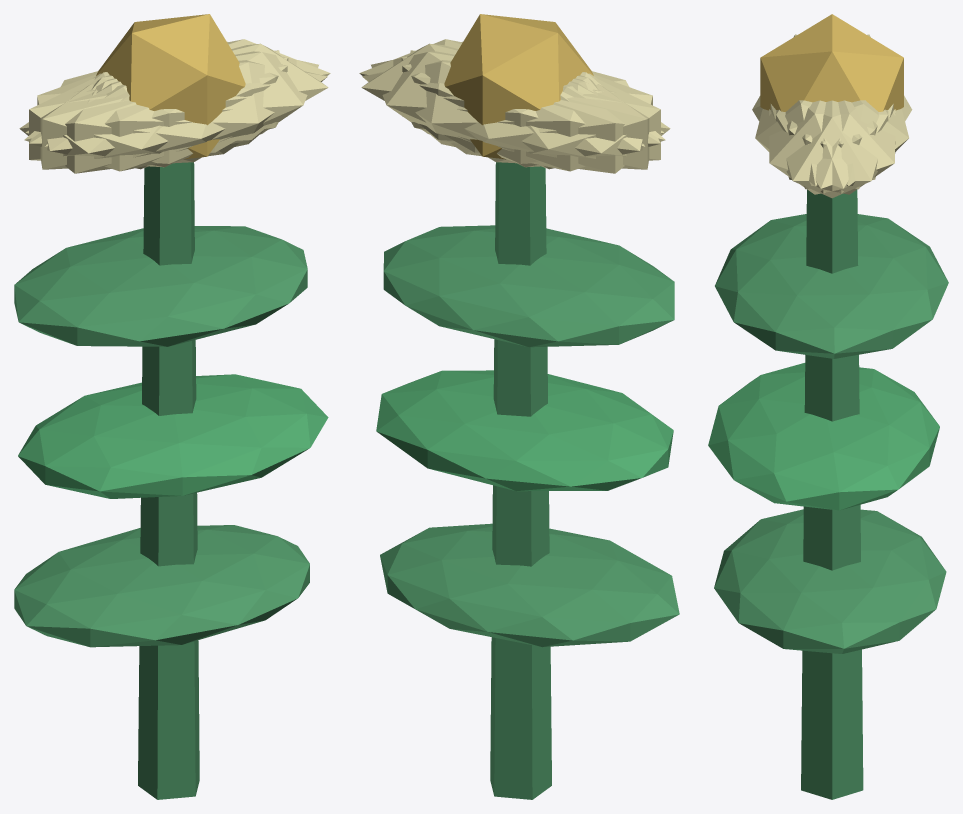
Rendered from lagerstroemia-speciosa.glb.
3 views of the same model, side by side, from view 1: azimuth 30°, elevation 25°; view 2: azimuth 150°, elevation 25°; view 3: azimuth 270°, elevation 25° (orthographic).
Visible parts, largest first — view 1: leaf1, leaf2, leaf0, stem, center, petal1, petal6, petal2, petal5, petal7, petal0, petal4 (+2 smaller); view 2: leaf2, leaf0, leaf1, stem, center, petal8, petal3, petal7, petal4, petal2, petal0, petal5 (+2 smaller); view 3: leaf2, leaf1, leaf0, stem, center, petal0, petal4, petal5, petal1, petal8.
Boxes of the visible parts, bbox=[...] form: leaf1: bbox=[18, 374, 328, 498]; leaf2: bbox=[14, 226, 307, 346]; leaf0: bbox=[14, 525, 309, 647]; stem: bbox=[138, 162, 199, 799]; center: bbox=[96, 14, 245, 159]; petal1: bbox=[24, 60, 327, 171]; petal6: bbox=[19, 73, 239, 173]; petal2: bbox=[40, 50, 279, 169]; petal5: bbox=[45, 51, 318, 163]; petal7: bbox=[29, 56, 288, 167]; petal0: bbox=[96, 43, 328, 153]; petal4: bbox=[25, 39, 330, 143]; leaf2: bbox=[383, 225, 674, 347]; leaf0: bbox=[380, 523, 679, 647]; leaf1: bbox=[376, 370, 673, 491]; stem: bbox=[490, 162, 551, 799]; center: bbox=[444, 14, 593, 159]; petal8: bbox=[362, 60, 665, 171]; petal3: bbox=[450, 73, 670, 173]; petal7: bbox=[410, 50, 649, 169]; petal4: bbox=[371, 51, 644, 163]; petal2: bbox=[401, 56, 660, 167]; petal0: bbox=[361, 43, 593, 153]; petal5: bbox=[359, 39, 664, 143]; leaf2: bbox=[715, 214, 948, 358]; leaf1: bbox=[708, 363, 939, 510]; leaf0: bbox=[714, 509, 946, 653]; stem: bbox=[801, 189, 863, 799]; center: bbox=[760, 14, 903, 111]; petal0: bbox=[770, 100, 893, 198]; petal4: bbox=[776, 100, 895, 194]; petal5: bbox=[769, 100, 888, 194]; petal1: bbox=[755, 100, 877, 186]; petal8: bbox=[787, 100, 908, 186].
Bounding box in the file's own units: 0.1498 × 0.3548 × 0.1028.
